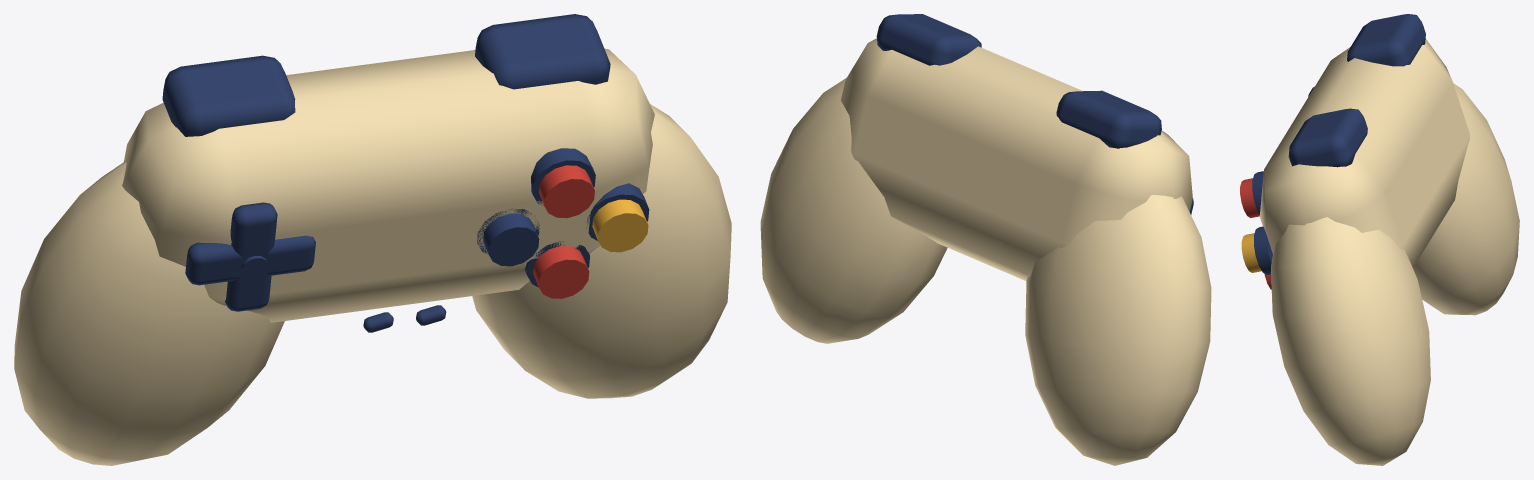
The model's file is gamepad.glb.
The picture shows the model from 3 angles, left to right: view 1: azimuth 30°, elevation 25°; view 2: azimuth 150°, elevation 25°; view 3: azimuth 270°, elevation 25°; orthographic projection. The views are drawn at different scales.
Parts seen in each view (by area): view 1: gamepad; view 2: gamepad; view 3: gamepad.
Part boxes in pixels (x1=…): gamepad: x1=14, y1=14, x2=731, y2=465; gamepad: x1=760, y1=14, x2=1211, y2=465; gamepad: x1=1240, y1=14, x2=1519, y2=465.
Size of the model in its own units: 0.9822 by 0.6263 by 0.5165.
